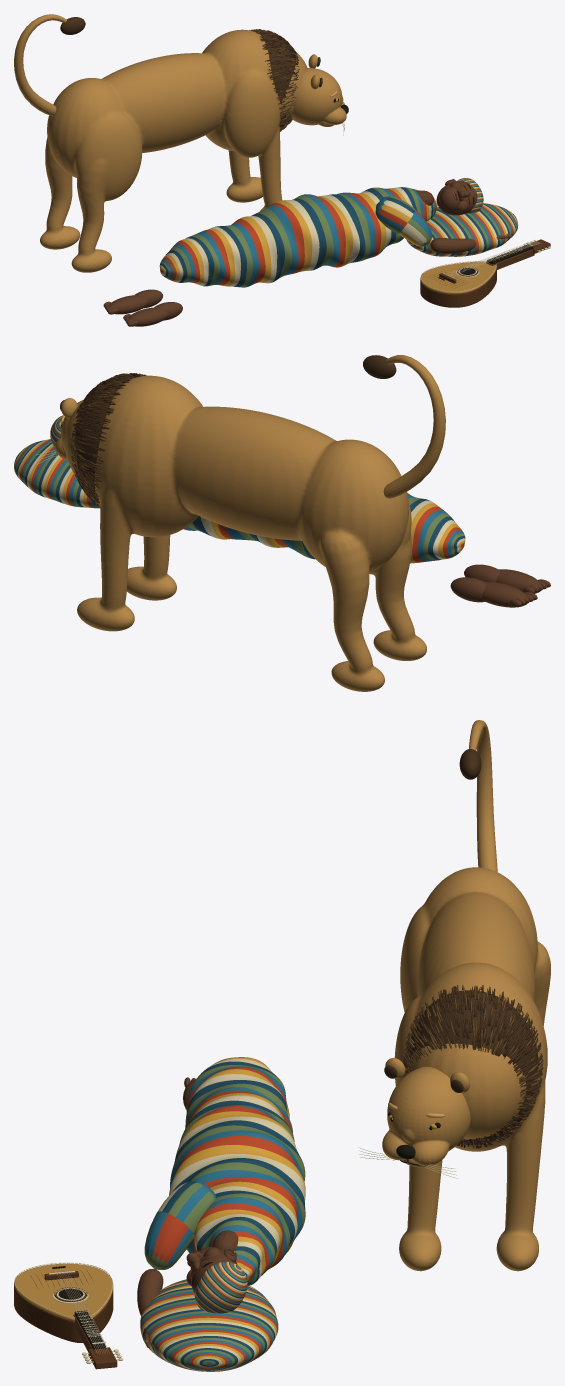
File: sleeping-gypsy-three-models.glb
The picture shows the model from 3 angles, top to bottom: view 1: azimuth 30°, elevation 25°; view 2: azimuth 150°, elevation 25°; view 3: azimuth 270°, elevation 25°; orthographic projection. The views are drawn at different scales.
Parts seen in each view (by area): view 1: Lion detailed mesh, Sleeping person detailed mesh, Stringed instrument detailed mesh; view 2: Lion detailed mesh, Sleeping person detailed mesh; view 3: Lion detailed mesh, Sleeping person detailed mesh, Stringed instrument detailed mesh.
Boxes of the visible parts, x1,y1,x2,y2 form: Lion detailed mesh: [14, 14, 348, 272]; Sleeping person detailed mesh: [103, 178, 518, 326]; Stringed instrument detailed mesh: [420, 239, 550, 307]; Lion detailed mesh: [35, 355, 445, 691]; Sleeping person detailed mesh: [14, 415, 550, 607]; Lion detailed mesh: [358, 720, 550, 1271]; Sleeping person detailed mesh: [137, 1057, 305, 1371]; Stringed instrument detailed mesh: [14, 1262, 123, 1369].
Bounding box in the file's own units: 2.54 × 1.47 × 1.87.
